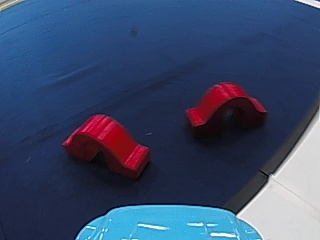bridge: (59, 110, 156, 180), (181, 79, 270, 137)
